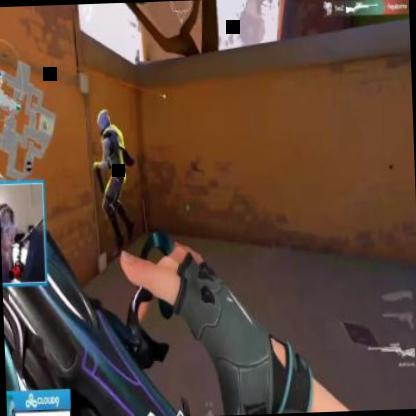enemy: (91, 108, 135, 250)
enemy_head: (96, 110, 111, 134)
